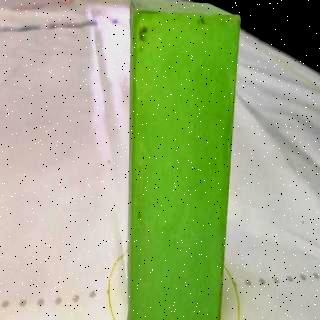greenbox: (129, 1, 241, 320)
